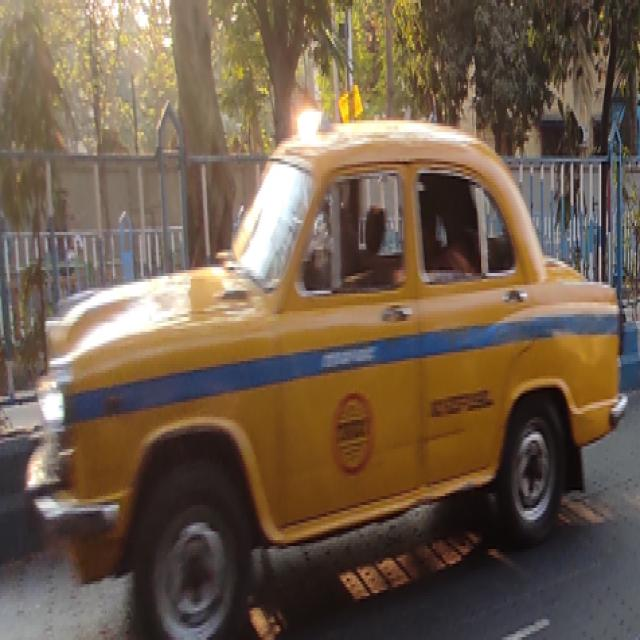ambasador_taxi: (31, 113, 636, 640)
